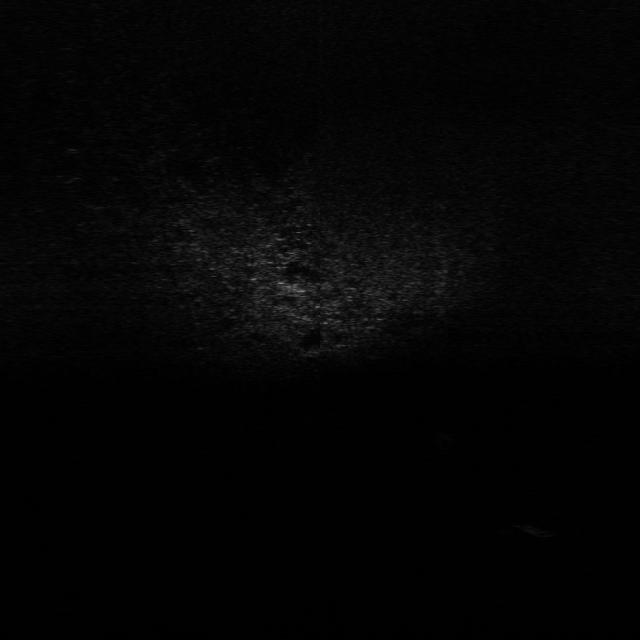cylinder: (527, 519, 552, 538)
